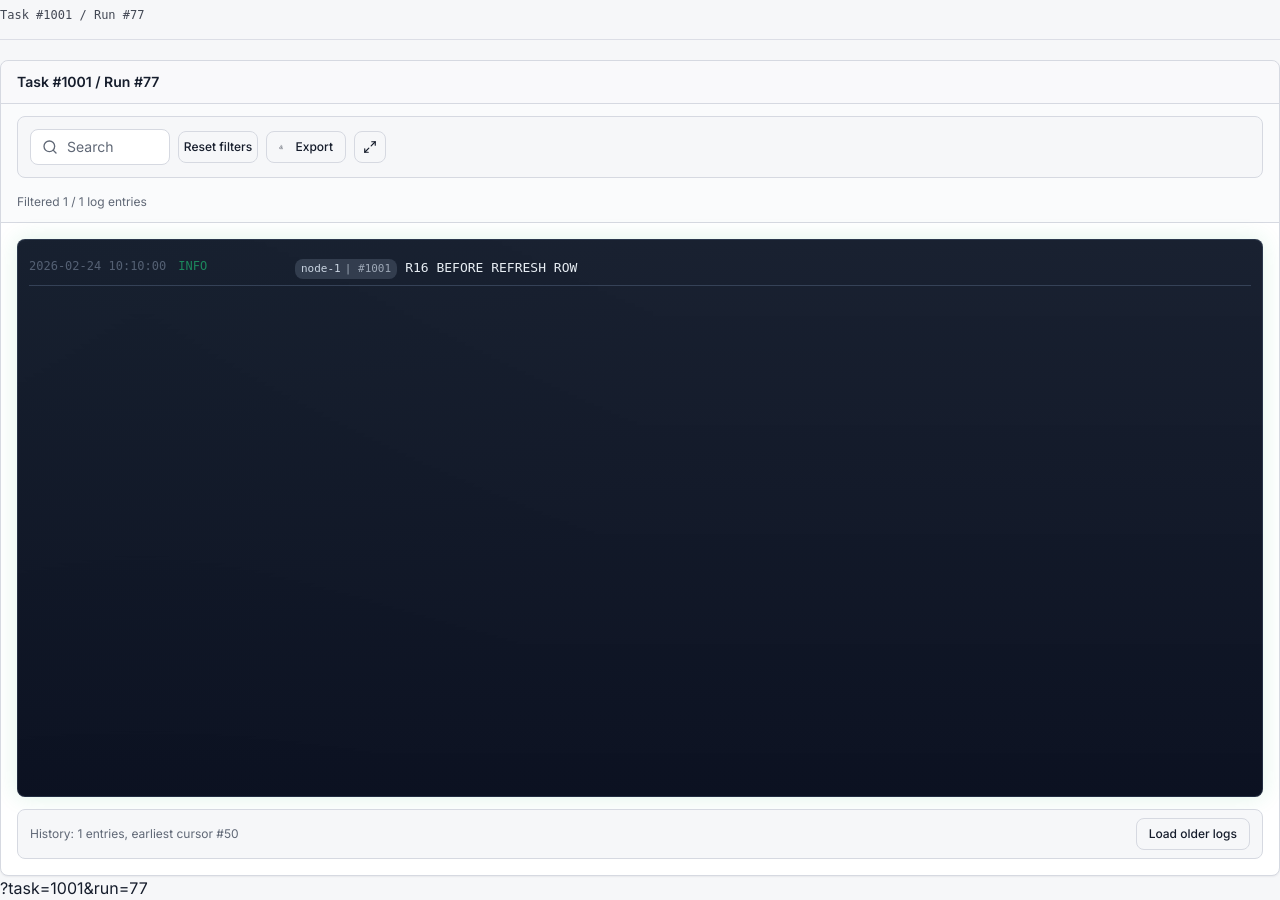
Scenario: LogsPage exact run › 刷新为显式单飞动作：清除旧行与旧分页，从 detail 重新核对，实时变化不触发自动刷新
(page scrolled)
Expected: the text "R16 BEFORE REFRESH ROW" is shown, [405,260,577,274]
Click the button "Load older logs" at (1193, 834), box [1136,818,1250,850]
(page scrolled)
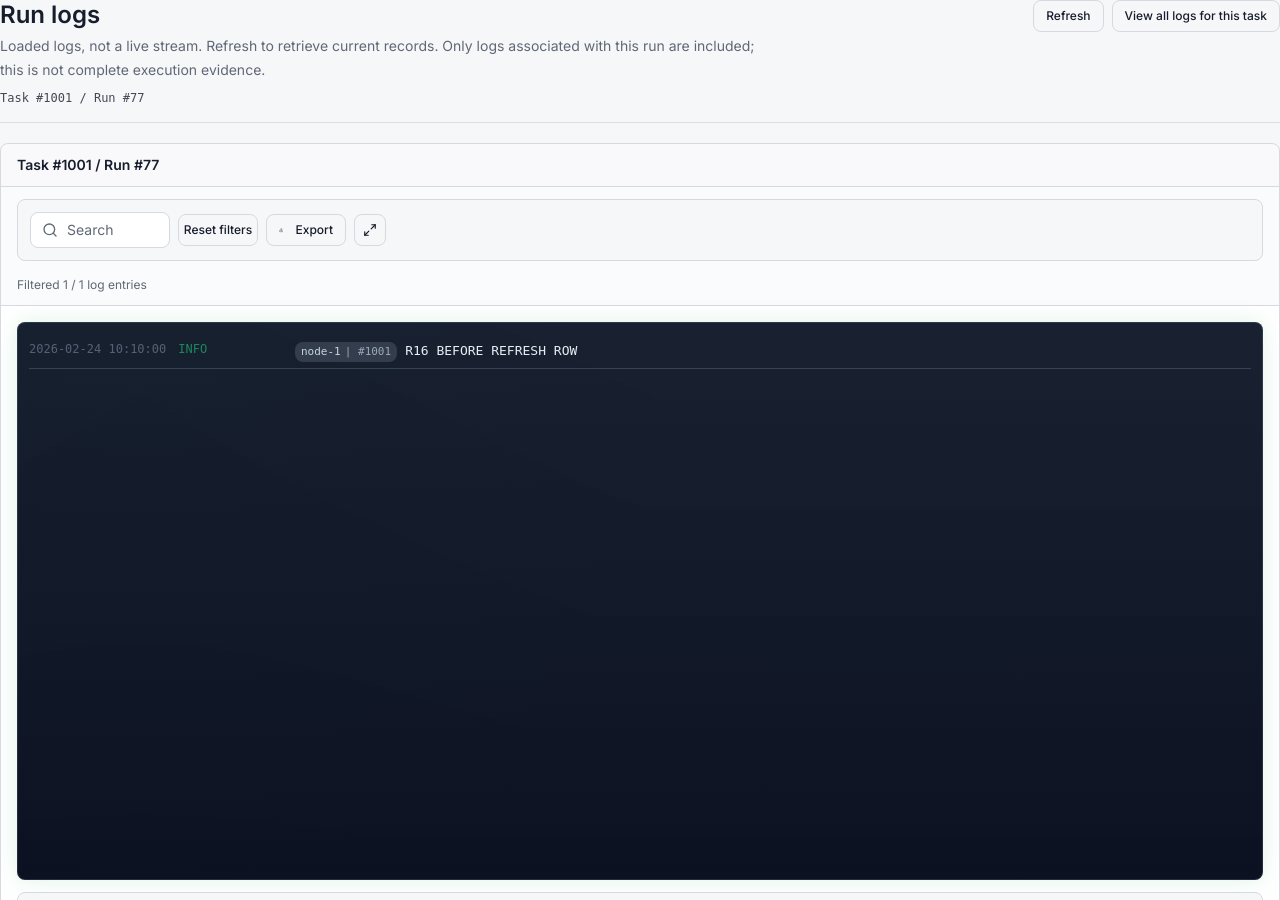
Click the button "Refresh" at (1068, 16), box [1033,0,1104,32]
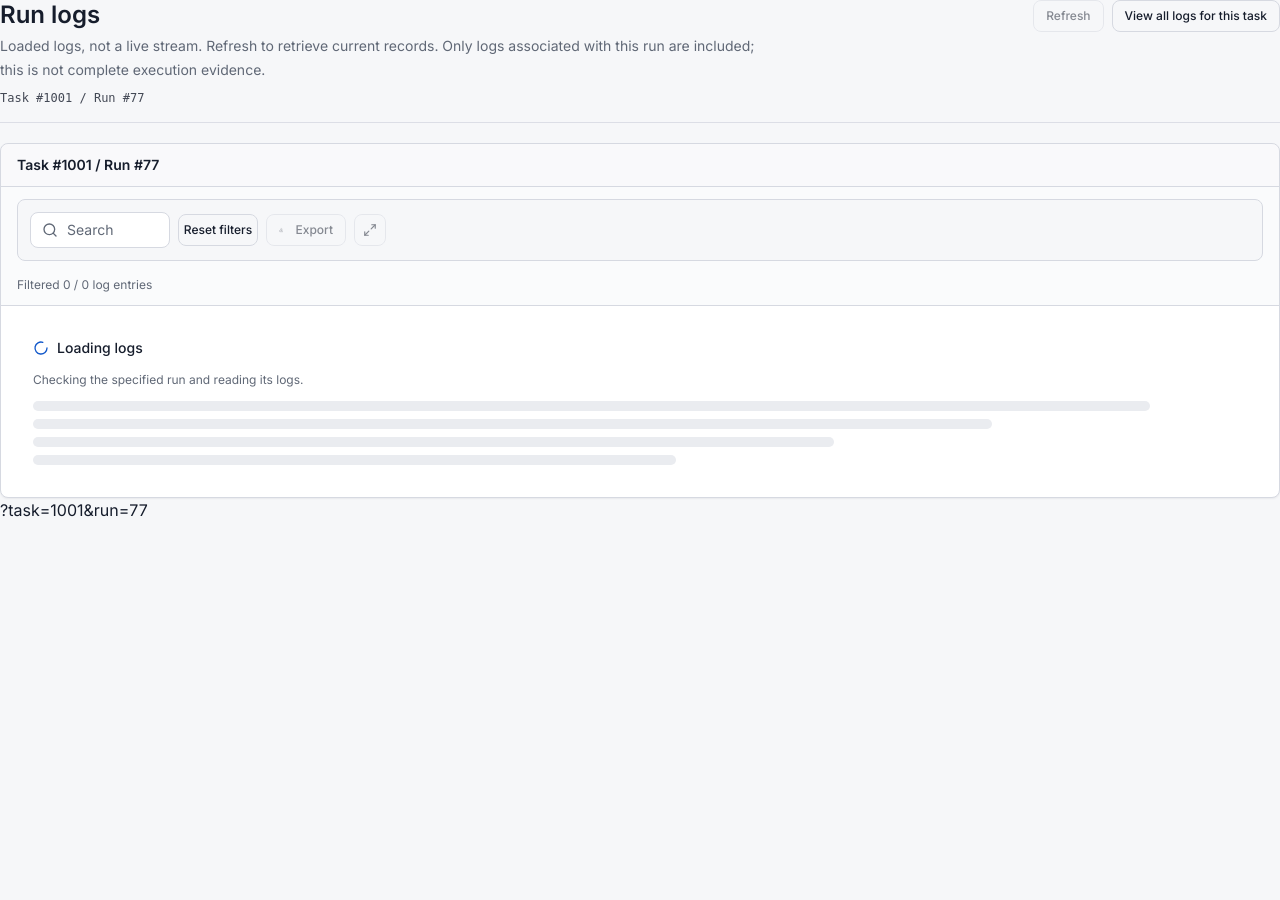
Expected: the text "R16 BEFORE REFRESH ROW" is gone
Expected: the button "Export" is disabled, [266,214,346,246]
Expected: the button named "View logs fullscreen" is disabled, [354,214,386,246]
Click the button "Refresh" at (1068, 16), box [1033,0,1104,32]
(page scrolled)
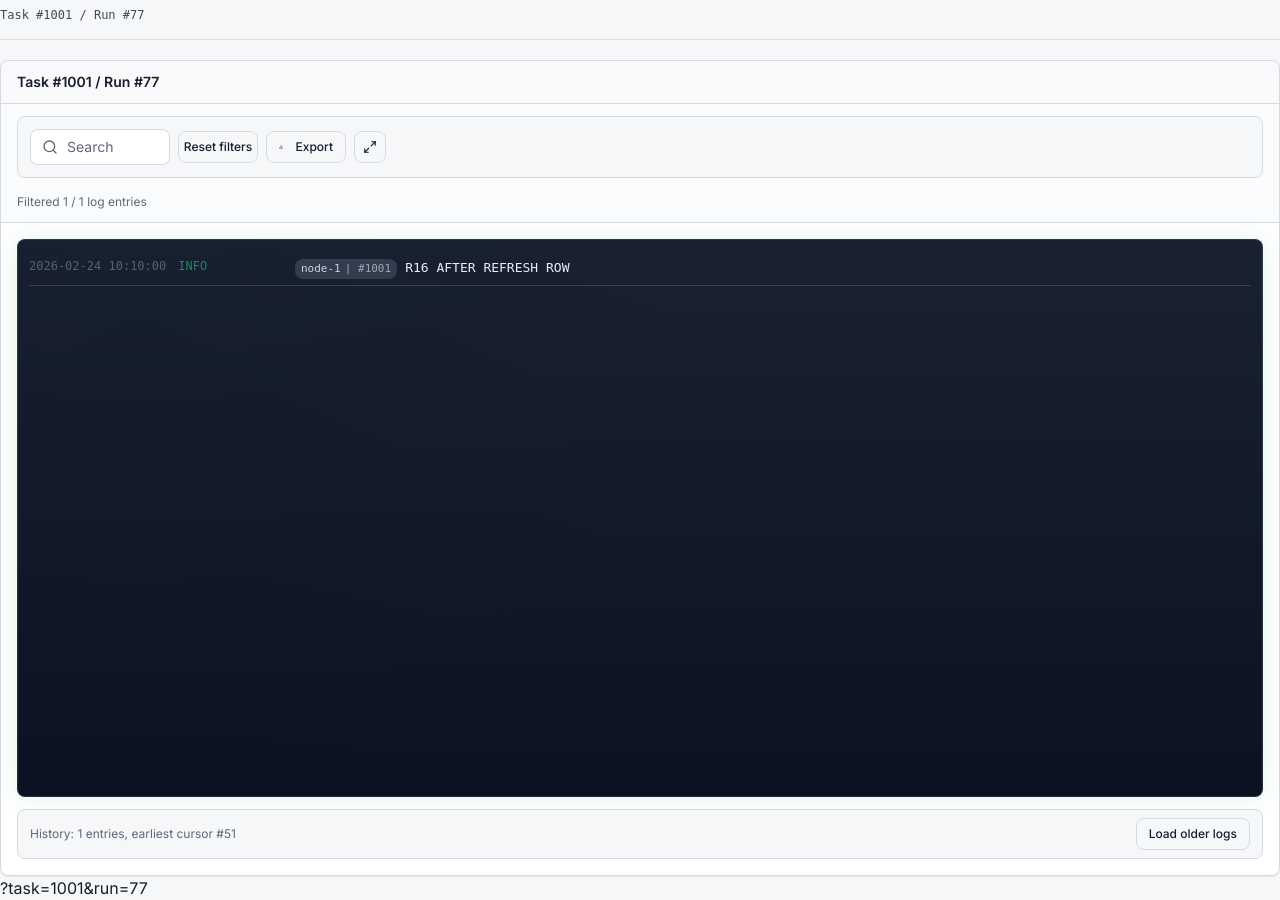
Expected: the text "R16 BEFORE REFRESH ROW" is not shown
Expected: the text "R16 AFTER REFRESH ROW" is shown, [405,260,570,274]
Expected: the button "Load older logs" is enabled, [1136,818,1250,850]
